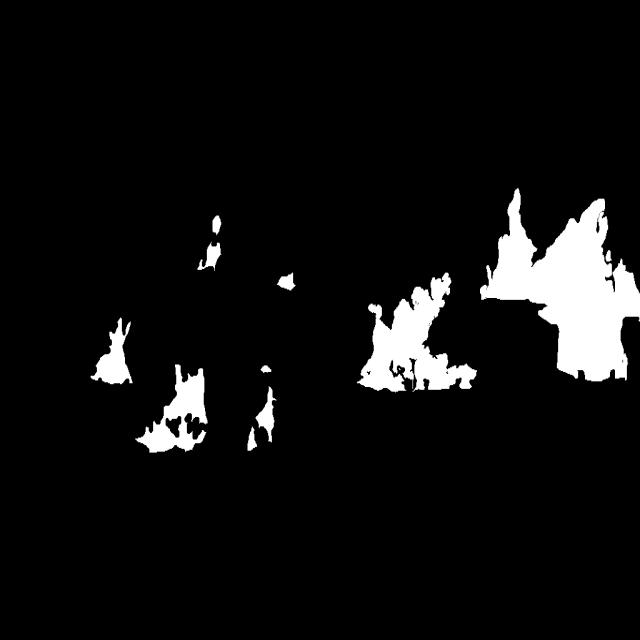fire: (48, 296, 304, 521), (432, 139, 630, 418), (335, 265, 523, 489)
